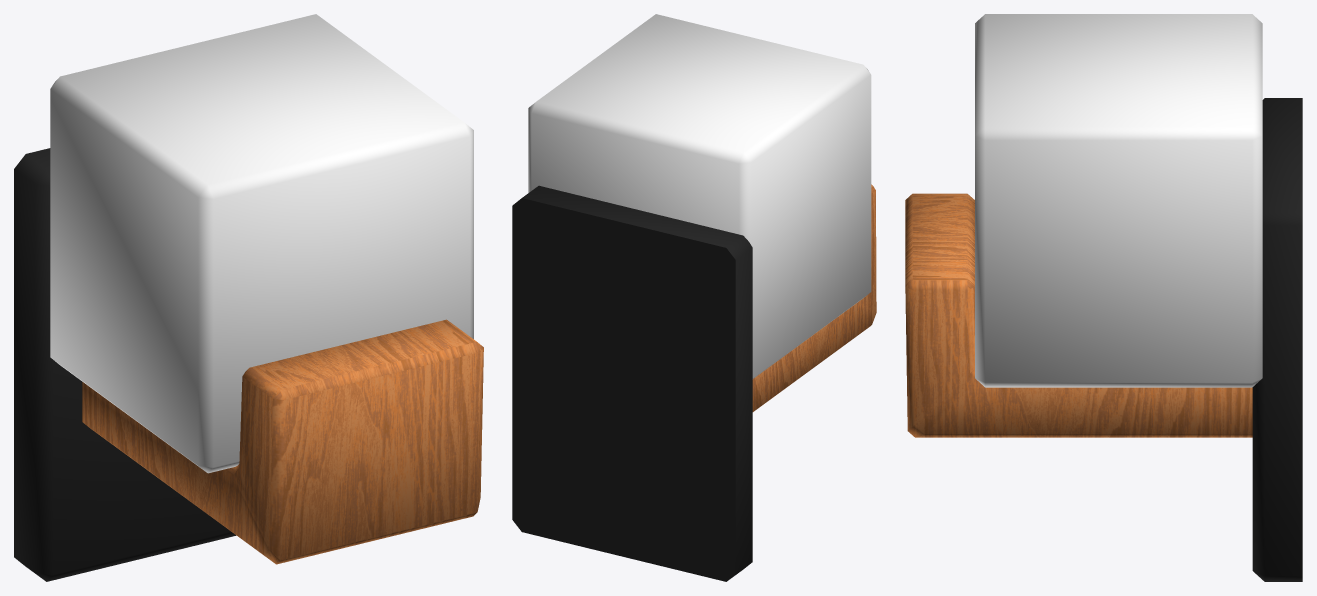
File: lamp_014.fbx
3 views of the same model, side by side, from view 1: azimuth 30°, elevation 25°; view 2: azimuth 150°, elevation 25°; view 3: azimuth 270°, elevation 25° (orthographic). The views are drawn at different scales.
Parts seen in each view (by area): view 1: lamp_014; view 2: lamp_014; view 3: lamp_014.
Boxes of the visible parts, box(x1,y1,x2,y2) form: lamp_014: box(14, 14, 483, 581); lamp_014: box(512, 14, 876, 581); lamp_014: box(905, 14, 1302, 581).
Bounding box in the file's own units: 26.61 × 35.67 × 45.53.
